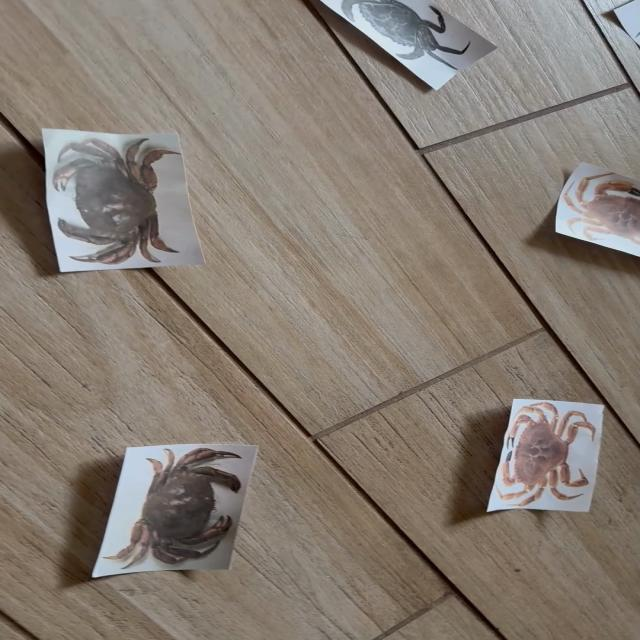egc: (322, 0, 496, 89)
